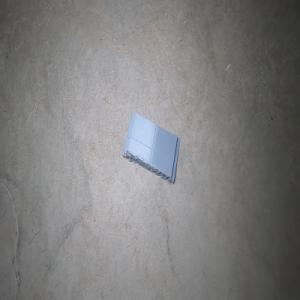PlasticPart: (122, 111, 180, 185)
